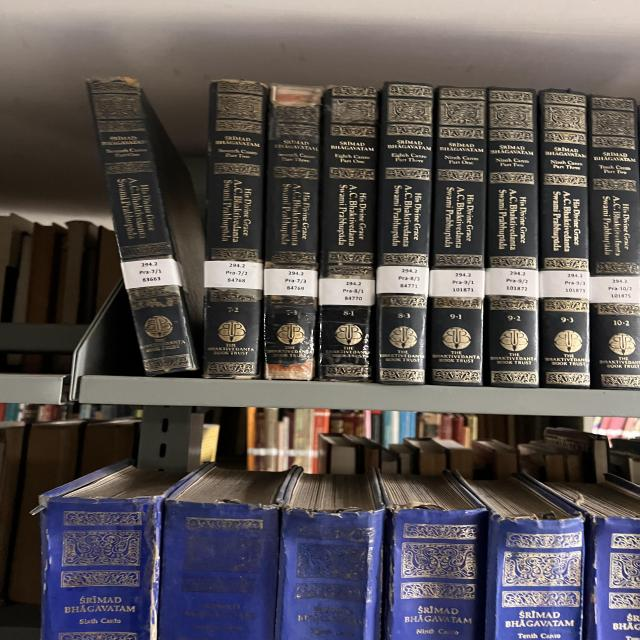Book: (87, 78, 203, 375), (40, 459, 185, 640), (158, 464, 292, 640), (465, 475, 583, 640), (203, 80, 267, 379), (277, 470, 385, 640), (380, 471, 487, 640), (427, 86, 487, 386), (317, 86, 378, 381), (263, 85, 323, 380), (533, 475, 640, 640), (377, 82, 433, 385), (485, 88, 540, 388), (587, 95, 640, 390), (538, 89, 590, 389)
Label: (120, 259, 182, 289), (203, 260, 263, 290), (263, 269, 318, 298), (485, 268, 538, 298), (430, 270, 485, 298), (318, 279, 375, 306), (377, 266, 430, 295), (540, 270, 590, 300), (590, 276, 640, 304)
